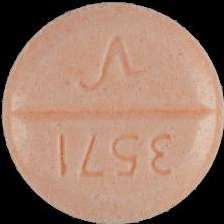16590-293: (0, 0, 224, 224)
